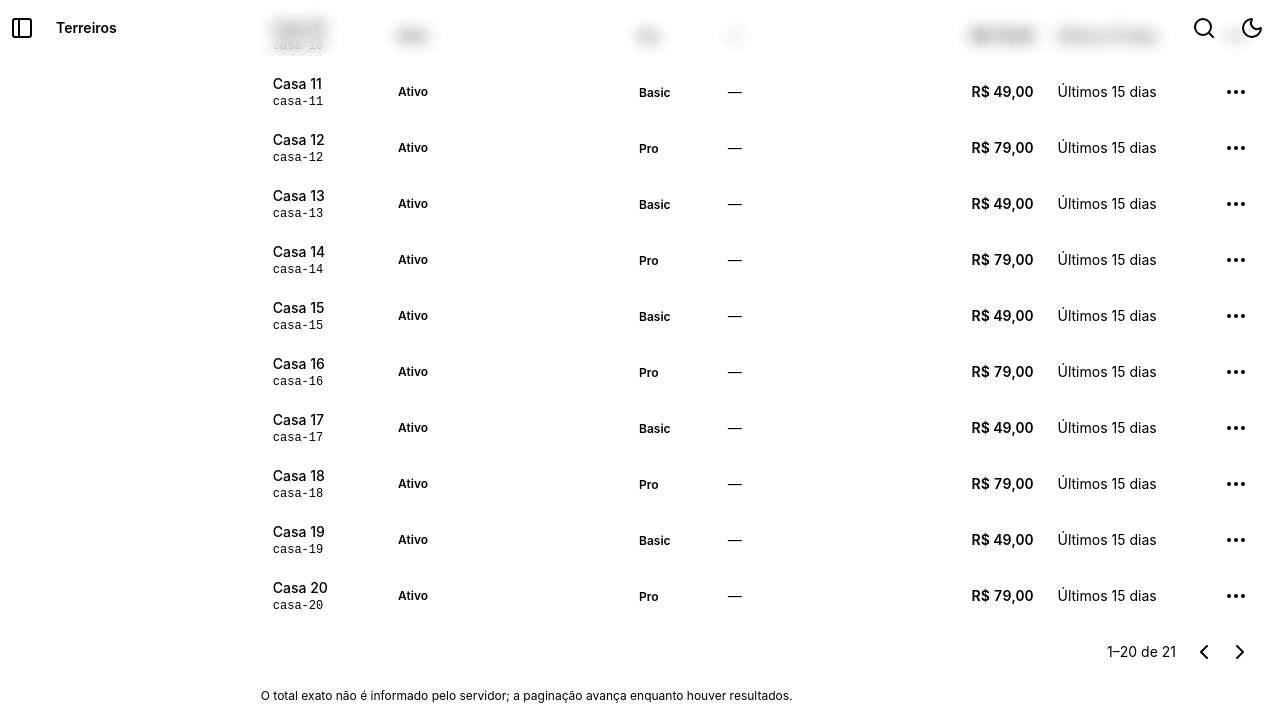
Platform — Terreiros › pagina no servidor com skip/limit e avança para a próxima página
The width and height of the screenshot is (1280, 720).
(page scrolled)
Check: the text "Casa 20" is shown, box [273,579,328,596]
Check: the text "Casa 21" is not shown
Click the button named "Próxima página" at (1240, 652), box [1224,636,1256,668]
(page scrolled)
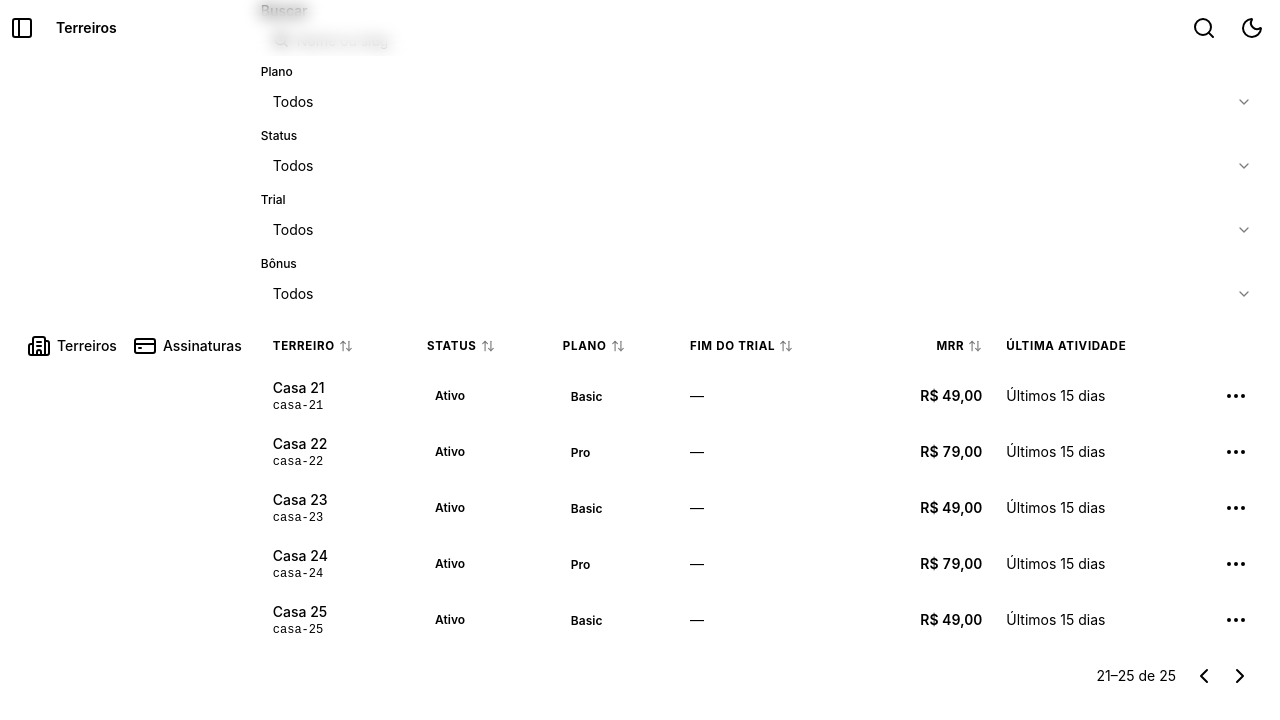
Check: the text "Casa 21" is shown, box [273,379,325,396]
Check: the text "Casa 25" is shown, box [273,603,327,620]
Check: the text "Casa 1" is gone
